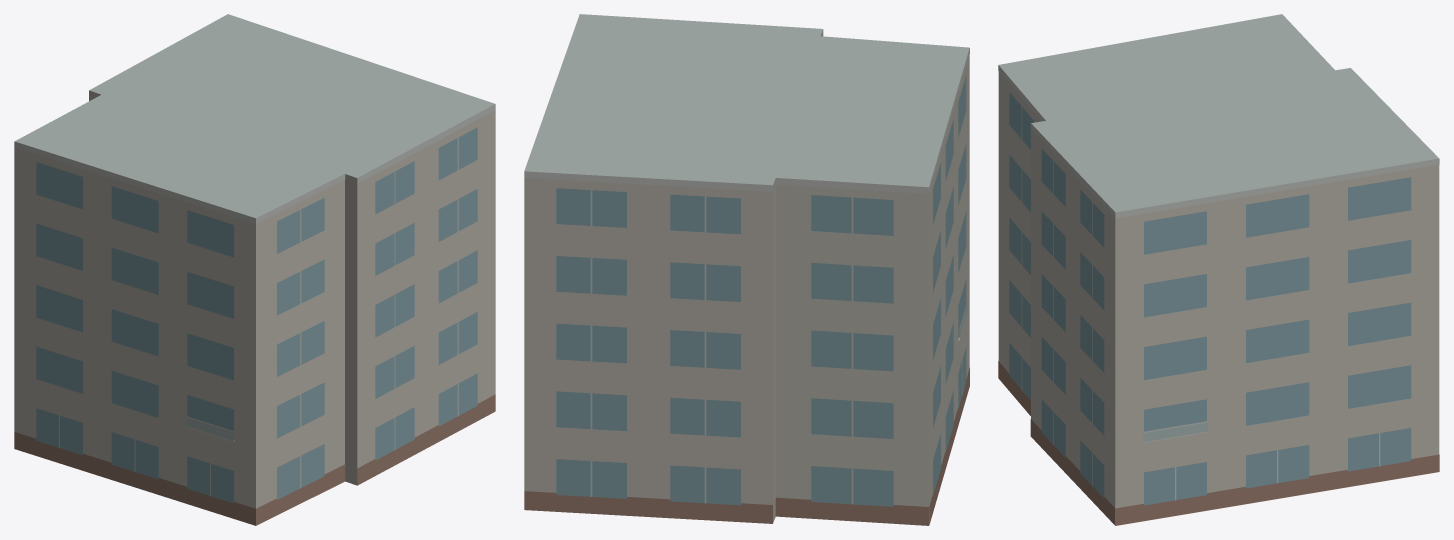
The model's file is survey-upis-32758757.glb.
The picture shows the model from 3 angles, left to right: view 1: azimuth 30°, elevation 25°; view 2: azimuth 150°, elevation 25°; view 3: azimuth 270°, elevation 25°; orthographic projection. The views are drawn at different scales.
Parts seen in each view (by area): view 1: survey-upis-32758757.tmp; view 2: survey-upis-32758757.tmp; view 3: survey-upis-32758757.tmp.
Boxes of the visible parts, x1=… form: survey-upis-32758757.tmp: x1=14, y1=14, x2=495, y2=525; survey-upis-32758757.tmp: x1=524, y1=14, x2=969, y2=525; survey-upis-32758757.tmp: x1=998, y1=14, x2=1439, y2=525.
Bounding box in the file's own units: 17.1 × 12.58 × 16.05.
